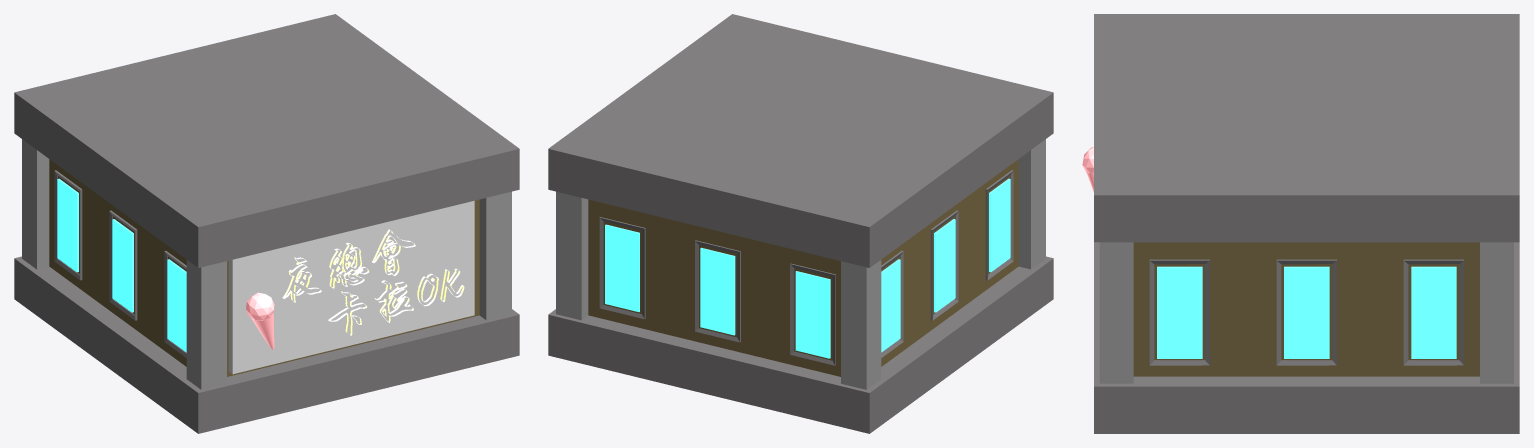
3 views of the same model, side by side, from view 1: azimuth 30°, elevation 25°; view 2: azimuth 150°, elevation 25°; view 3: azimuth 270°, elevation 25° (orthographic). The views are drawn at different scales.
Parts seen in each view (by area): view 1: Cube.014, Cube.013, Cube.004, Cube.002, Cube.016, Cube.015, Text, Cube.017, Cube.012, Cube.010, Cube.011, Icosphere; view 2: Cube.014, Cube.002, Cube.013, Cube.017, Cube.001, Cube.018, Cube, Cube.003, Cube.016, Cube.011, Cube.010, Cube.012; view 3: Cube.014, Cube.002, Cube.013, Cube.007, Cube.008, Cube.009, Cube.015, Cube.018.
Boxes of the visible parts, box(x1,y1,x2,y2) form: Cube.014: box(14, 14, 519, 267); Cube.013: box(14, 256, 519, 433); Cube.004: box(228, 200, 474, 374); Cube.002: box(49, 159, 479, 376); Cube.016: box(186, 260, 226, 389); Cube.015: box(479, 191, 511, 320); Text: box(282, 229, 464, 335); Cube.017: box(22, 139, 49, 269); Cube.012: box(54, 170, 82, 280); Cube.010: box(109, 210, 137, 320); Cube.011: box(164, 251, 186, 357); Icosphere: box(246, 292, 274, 320); Cube.014: box(548, 14, 1053, 267); Cube.002: box(588, 159, 1018, 376); Cube.013: box(548, 256, 1053, 433); Cube.017: box(841, 260, 881, 389); Cube.001: box(790, 263, 835, 365); Cube.018: box(556, 191, 588, 320); Cube: box(599, 217, 645, 319); Cube.003: box(695, 240, 740, 342); Cube.016: box(1018, 139, 1045, 269); Cube.011: box(985, 170, 1013, 280); Cube.010: box(930, 210, 958, 320); Cube.012: box(881, 251, 903, 357); Cube.014: box(1094, 14, 1519, 242); Cube.002: box(1133, 242, 1479, 376); Cube.013: box(1094, 242, 1519, 433); Cube.007: box(1149, 259, 1209, 365); Cube.008: box(1403, 259, 1463, 365); Cube.009: box(1276, 259, 1336, 365); Cube.015: box(1099, 242, 1133, 383); Cube.018: box(1480, 242, 1513, 383).
Bounding box in the file's own units: 13.28 × 8.16 × 13.54.
